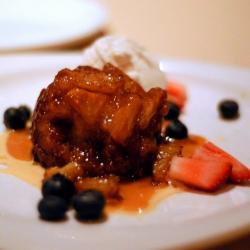icecream: (79, 34, 167, 100)
